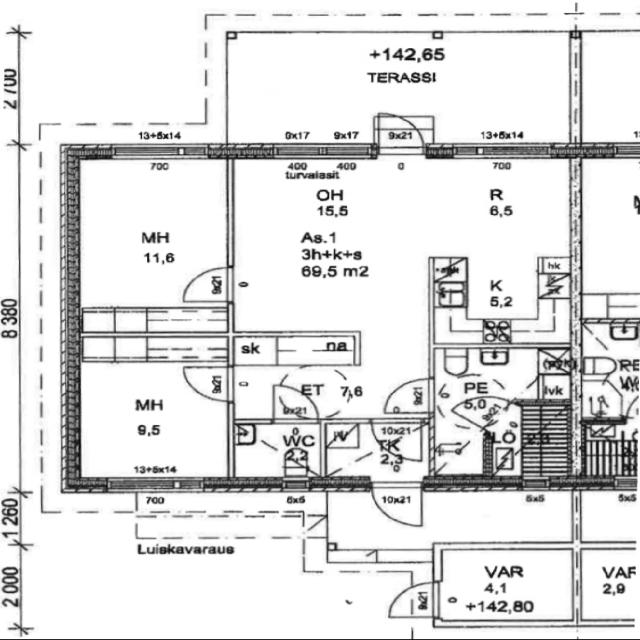door: (367, 476, 428, 530), (370, 416, 428, 472), (170, 262, 237, 307), (370, 112, 430, 161), (176, 361, 237, 404), (384, 579, 446, 619), (264, 383, 326, 422), (377, 376, 436, 416), (291, 508, 330, 538)
window: (434, 140, 556, 166), (104, 140, 210, 168), (261, 141, 374, 164), (100, 473, 194, 498), (517, 477, 556, 495)
zone: (220, 158, 590, 327), (70, 154, 230, 316), (67, 340, 229, 490), (426, 346, 574, 463), (434, 544, 574, 627), (574, 317, 640, 419), (230, 418, 324, 483), (581, 419, 638, 482), (269, 331, 358, 365), (379, 375, 435, 416)
